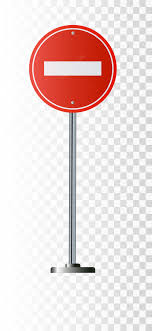No entry: (29, 26, 117, 113)
